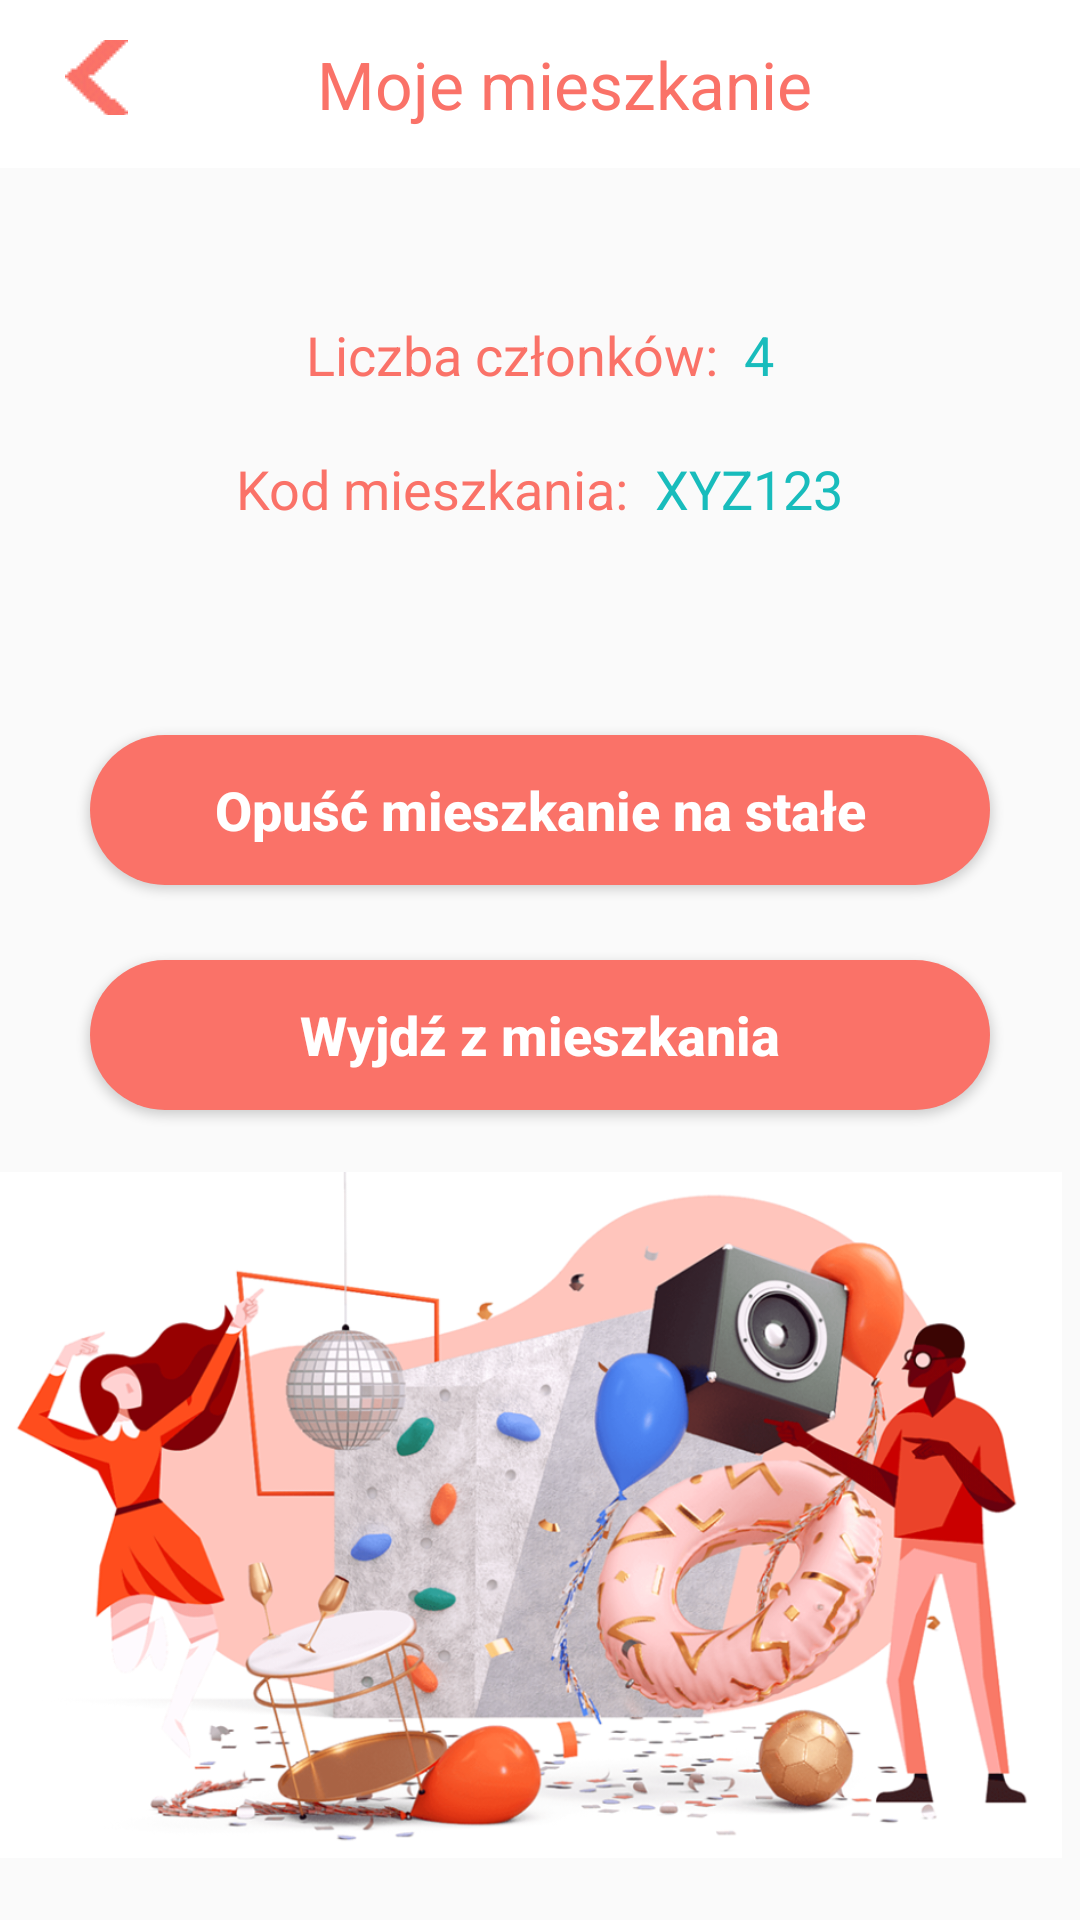

Icon bounding boxes for this 1080px x 1920px phone screenshot, format detection(x1, y1, x2, y2):
ikona powrotu: detection(65, 40, 128, 115)
